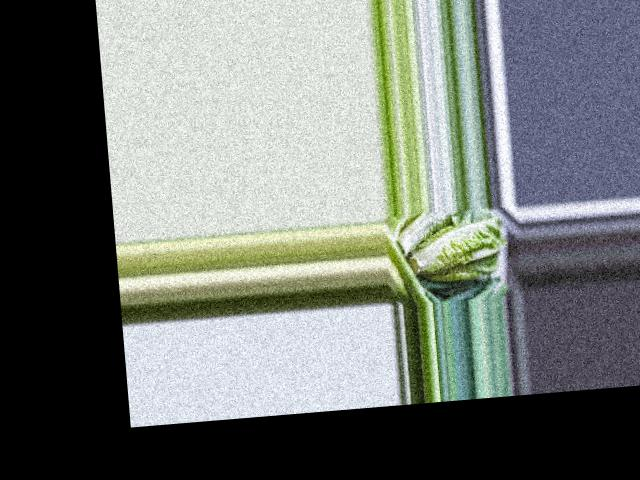lettuce: (405, 216, 508, 286)
